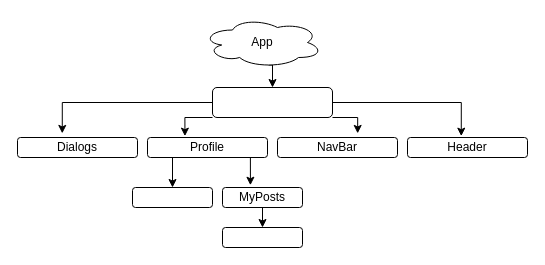
The diagram is 545 pixels wide and 265 high, and some of its shapes have lost their labels. The shapes that lost their labels are listed below. From the top down, each one's centre as x and y in pixels, then its label:
(272,102): BrowserRouter
(172,197): ProfileInfo
(262,237): Post
